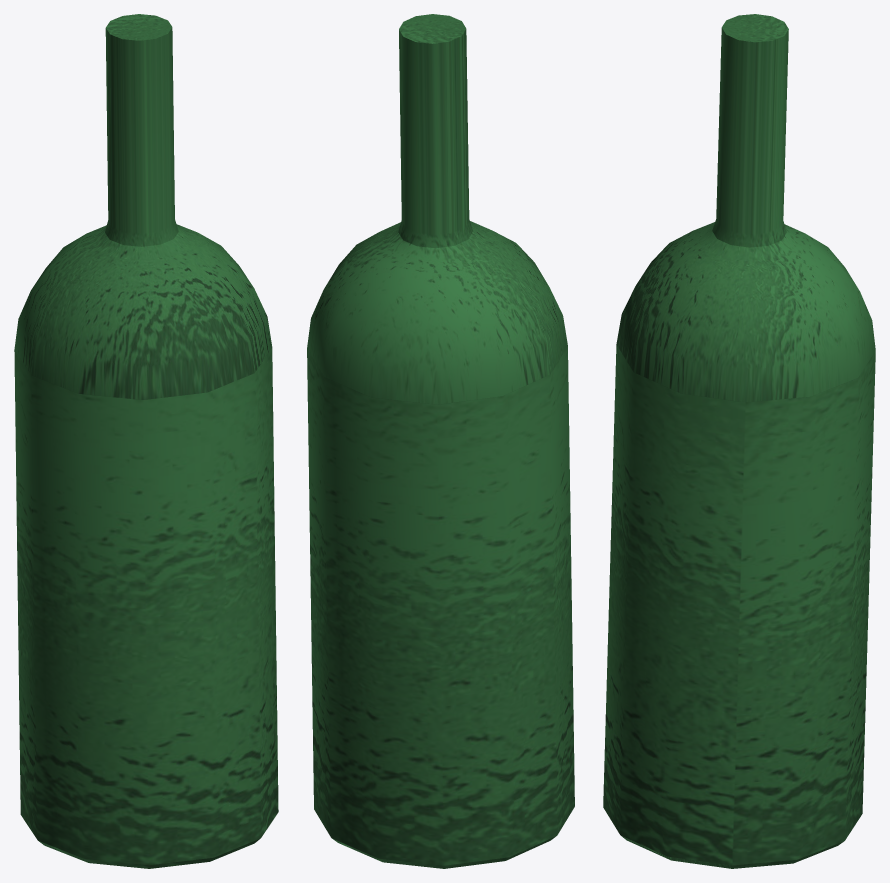
File: bouteille de vin.FBX
The picture shows the model from 3 angles, left to right: view 1: azimuth 30°, elevation 25°; view 2: azimuth 150°, elevation 25°; view 3: azimuth 270°, elevation 25°; orthographic projection.
Visible parts, largest first — view 1: Bouteille_Vin; view 2: Bouteille_Vin; view 3: Bouteille_Vin.
Part boxes in pixels (<box>): Bouteille_Vin: <box>14,14,278,868</box>; Bouteille_Vin: <box>307,14,574,868</box>; Bouteille_Vin: <box>603,14,875,868</box>.
Bounding box in the file's own units: 2.79 × 9.4 × 2.93.
